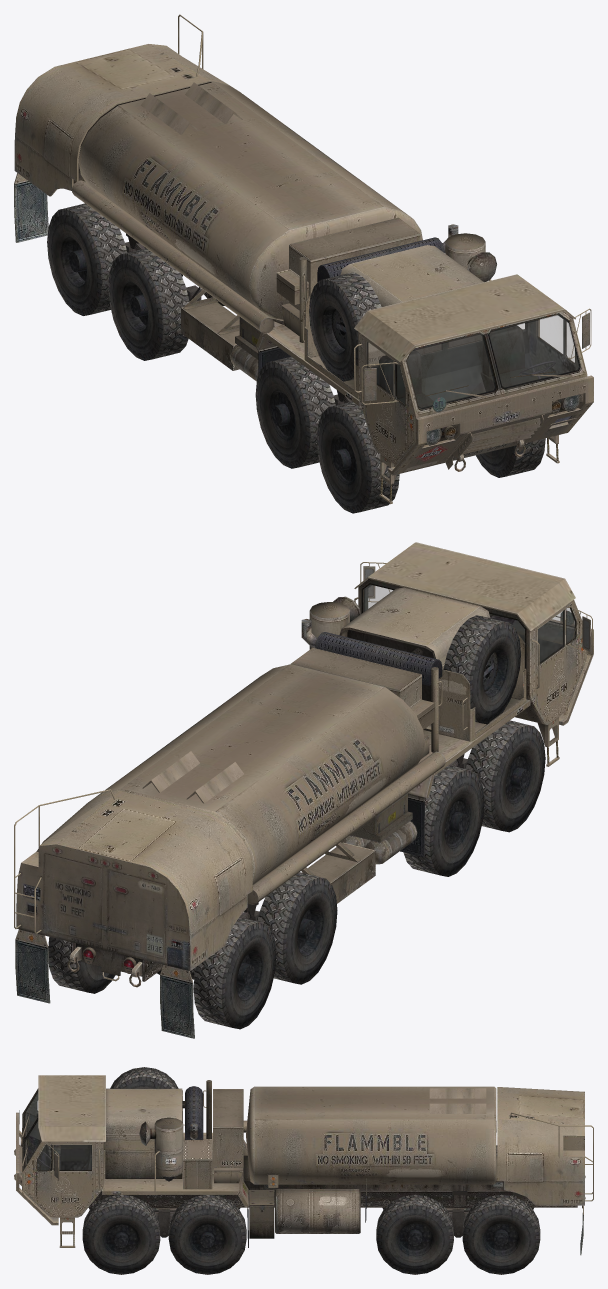
The model's file is fuel.glb.
The picture shows the model from 3 angles, top to bottom: view 1: azimuth 30°, elevation 25°; view 2: azimuth 150°, elevation 25°; view 3: azimuth 270°, elevation 25°; orthographic projection. The views are drawn at different scales.
Parts seen in each view (by area): view 1: S_M978_001; view 2: S_M978_001; view 3: S_M978_001.
Boxes of the visible parts, left/top/right/bottom form: S_M978_001: left=14, top=14, right=593, bottom=513; S_M978_001: left=14, top=542, right=593, bottom=1038; S_M978_001: left=14, top=1067, right=593, bottom=1274.
Bounding box in the file's own units: 0.3558 × 0.3141 × 1.1.
Materials: 2 (2 with a texture image).
